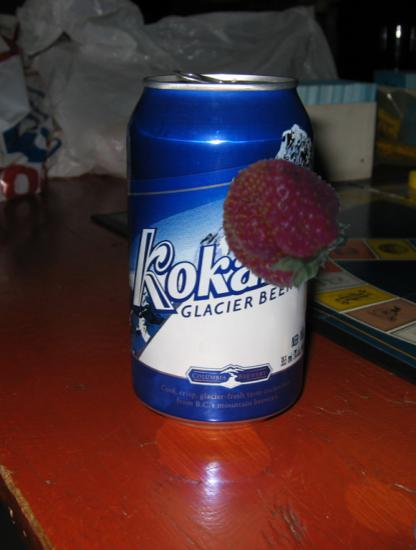Strawberry: (220, 160, 349, 289)
